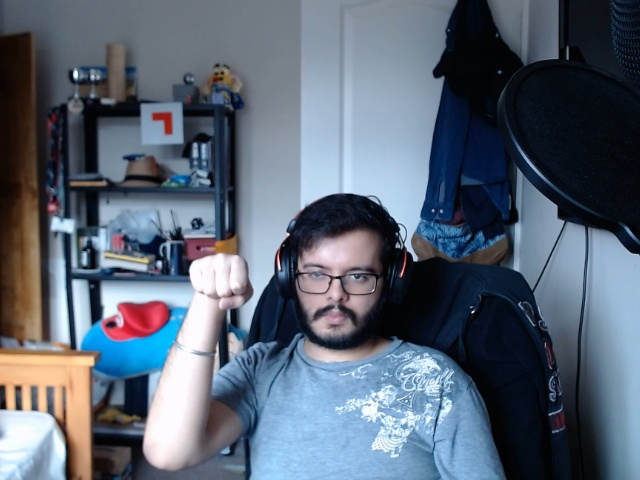Yes: (181, 242, 264, 319)
